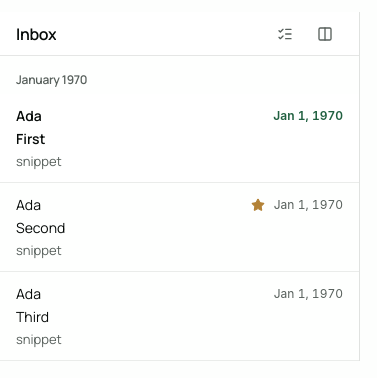
Test: MailFolderRouteScreen — context menus › acts on the row it was opened on and leaves the open conversation alone
The image size is (377, 378).
Right-click the element showing "Ada Jan 1, 1970" at (180, 138), box [0, 94, 359, 183]
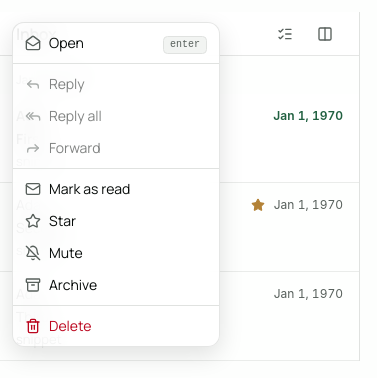
Click the menu item "Archive" at (61, 284), box [25, 275, 97, 294]
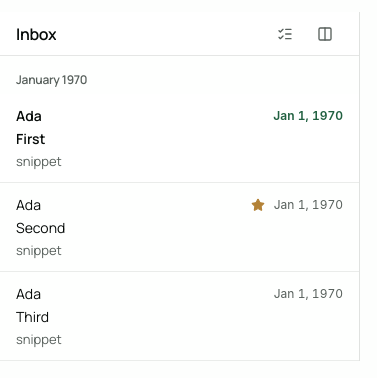
Check: the menu is gone
